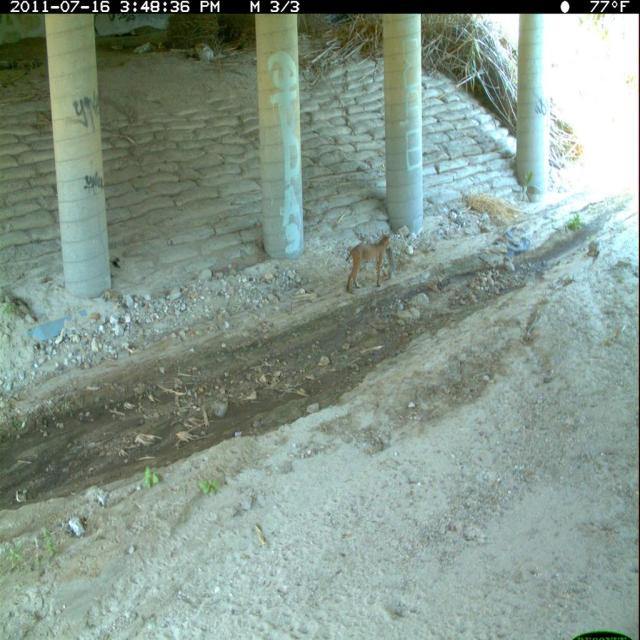bobcat: (343, 227, 401, 299)
rabbit: (384, 245, 398, 285)
